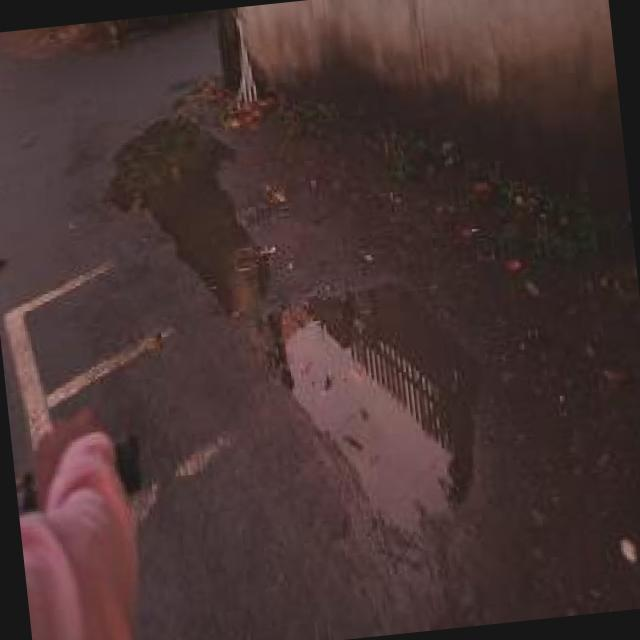stagnation: (228, 271, 518, 562), (79, 101, 289, 332)
